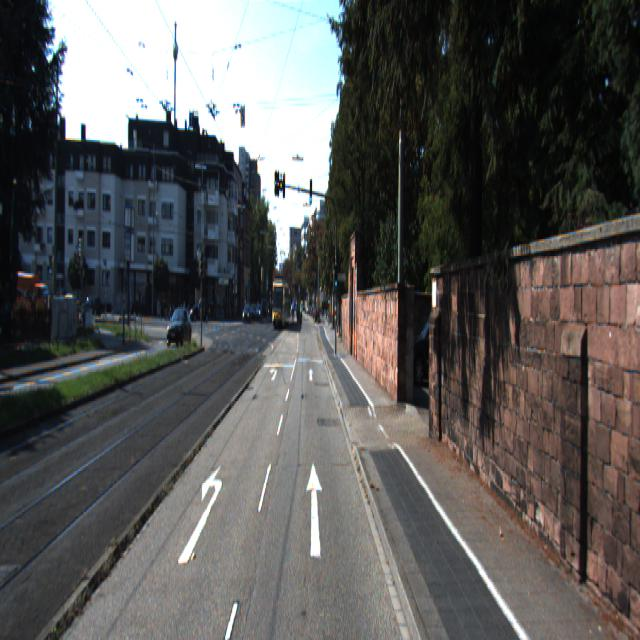Car: (166, 309, 192, 348)
